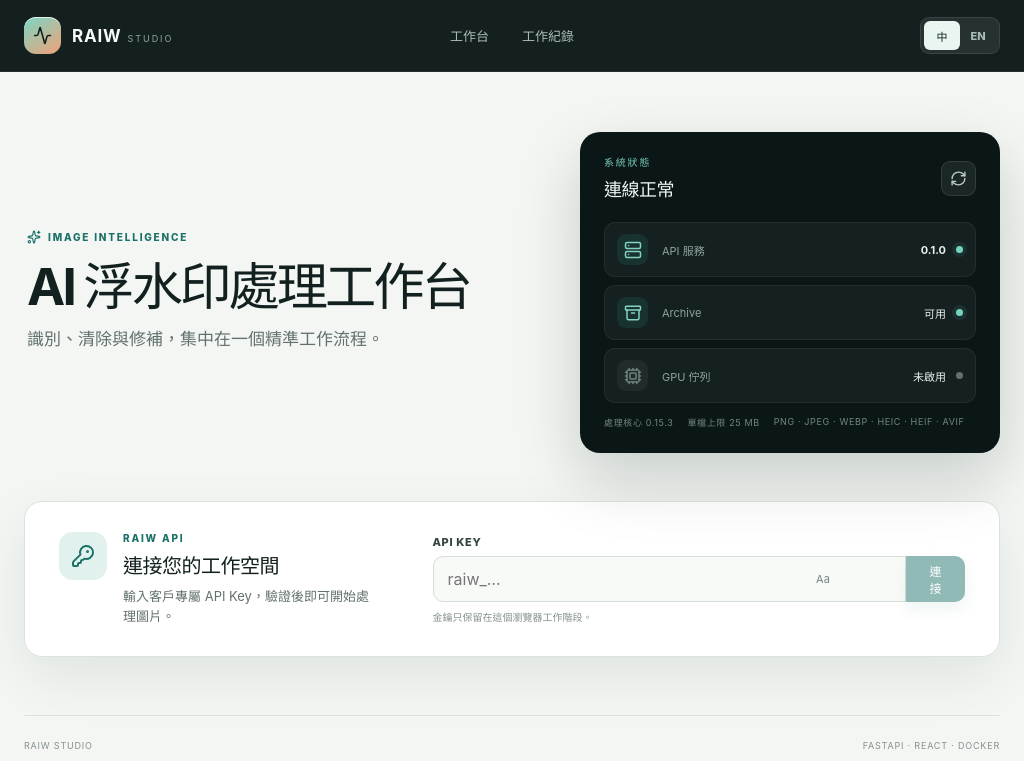
Test: workbench › connects with a customer key and stores it only for the session
Type "raiw_123456789abc_super-secret" into the password field labelled "API Key" at (669, 579), box [432,556,906,602]
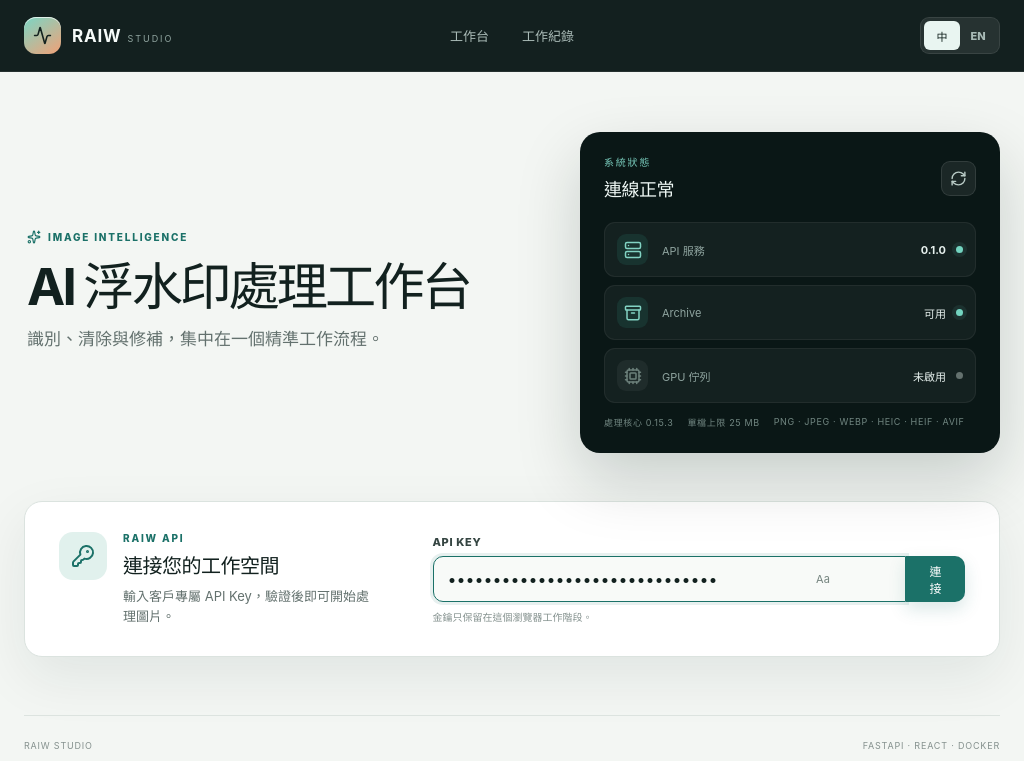
Click the button "連接" at (936, 579), box [906,556,965,602]
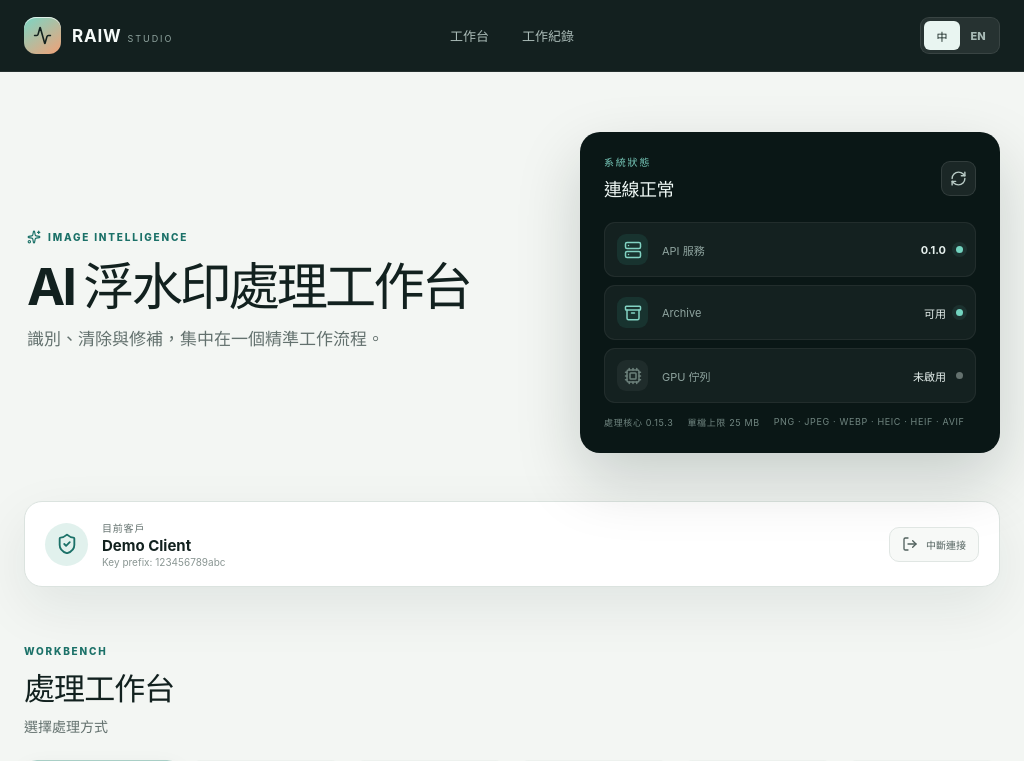
Result: the text "Demo Client" is shown at [102,536,191,555]
